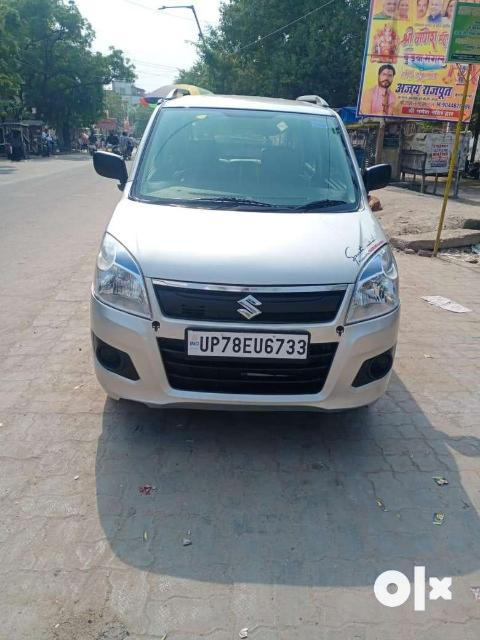Indian_Number_Plate: (188, 328, 311, 358)
